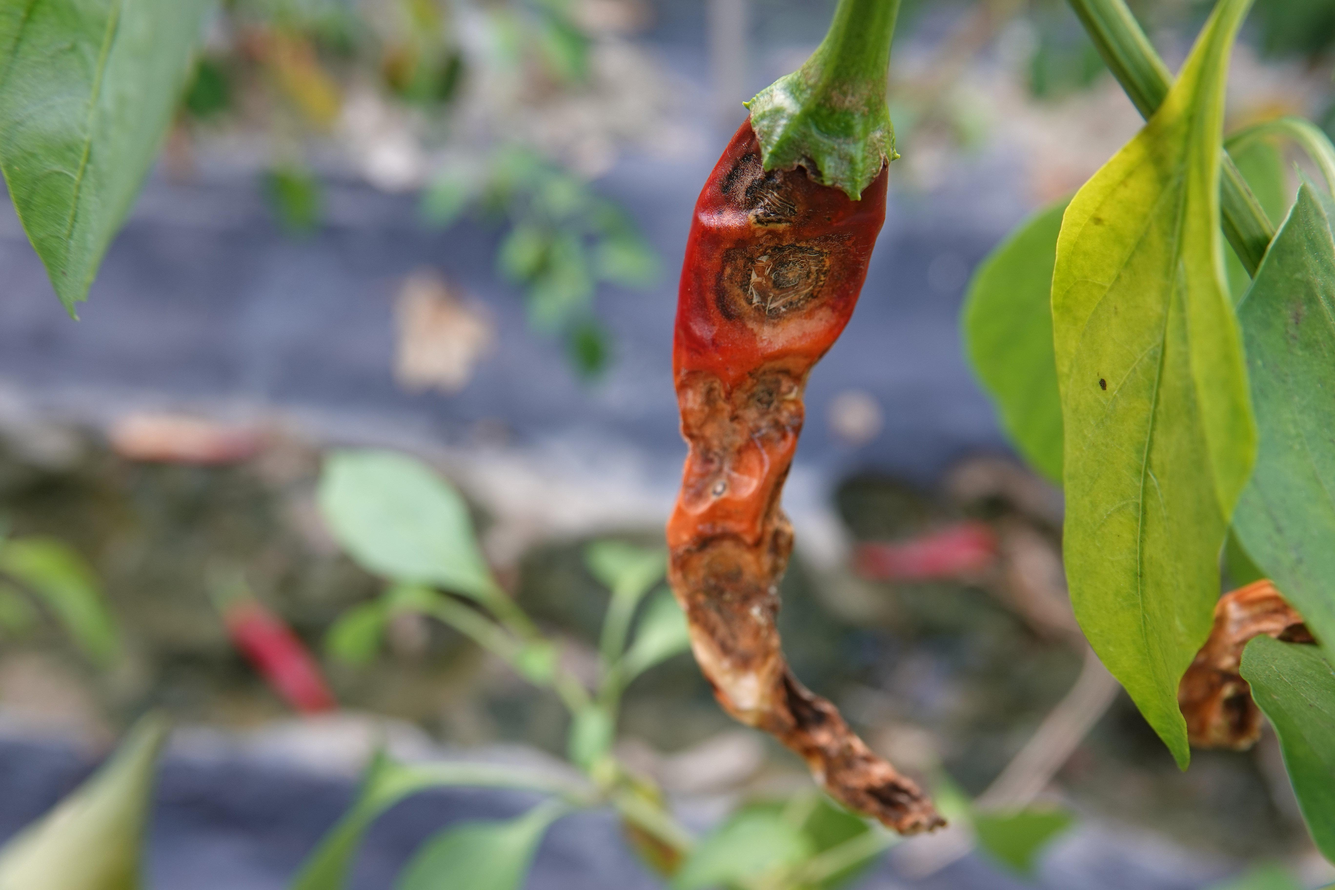Busuk Buah Antraknosa: (660, 4, 950, 841)
Virus Kuning: (1047, 84, 1264, 789)
